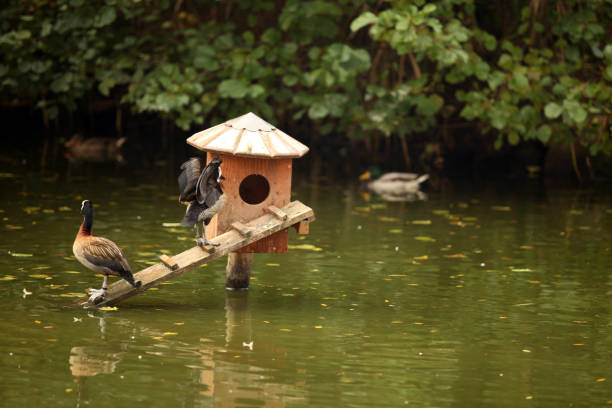goose: (69, 196, 143, 306), (175, 154, 230, 259)
